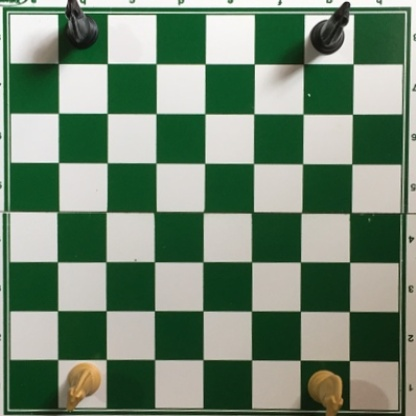black-knight: (308, 1, 353, 55), (64, 1, 99, 53)
white-knight: (63, 360, 102, 412), (308, 369, 343, 416)
